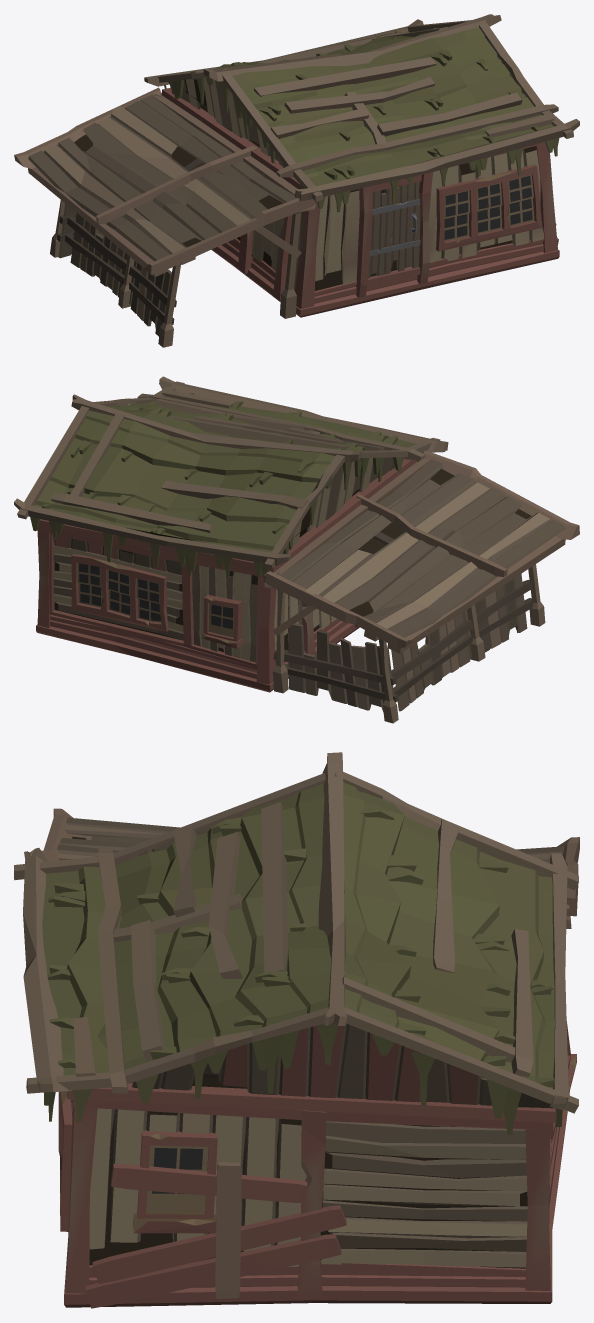
File: SM_Bld_Shanty_Preset_06.glb
3 renders of one model, top to bottom at view 1: azimuth 30°, elevation 25°; view 2: azimuth 150°, elevation 25°; view 3: azimuth 270°, elevation 25°, orthographic. The views are drawn at different scales.
Visible parts, largest first — view 1: SM_Bld_Shanty_Preset_06; view 2: SM_Bld_Shanty_Preset_06; view 3: SM_Bld_Shanty_Preset_06.
Part boxes in pixels (x1,y1,x2,y2): SM_Bld_Shanty_Preset_06: (14,14,579,347); SM_Bld_Shanty_Preset_06: (14,376,579,723); SM_Bld_Shanty_Preset_06: (14,752,579,1308).
Bounding box in the file's own units: 0.0892 × 0.0406 × 0.0601.
